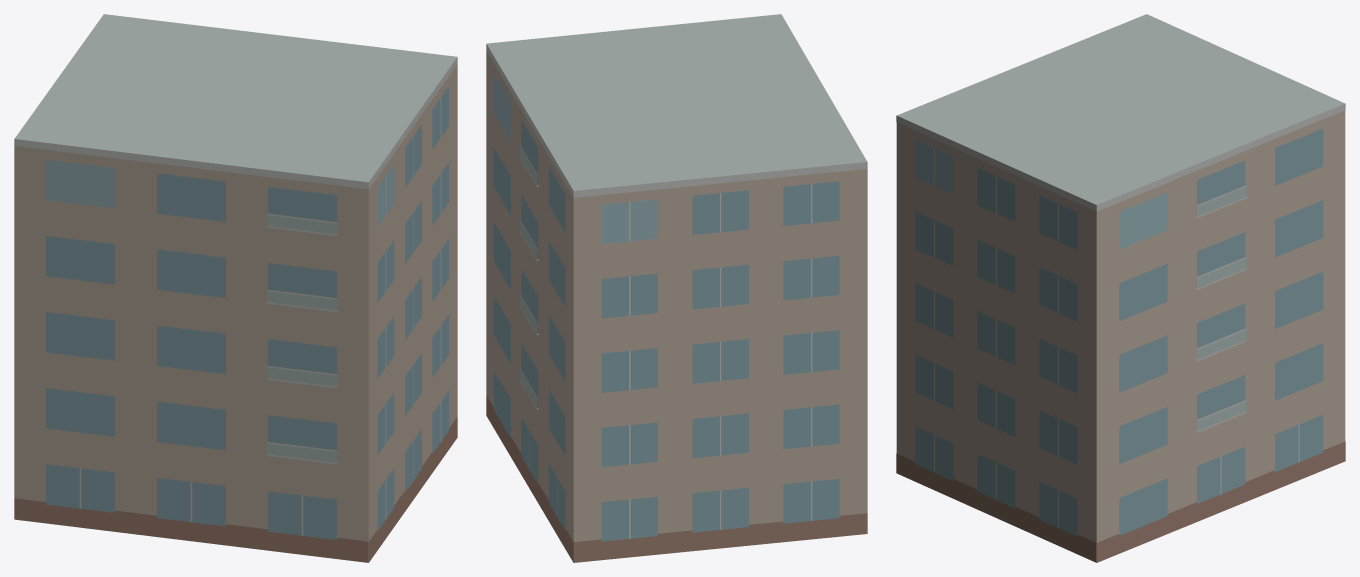
Rendered from survey-upis-32849461.glb.
3 renders of one model, left to right at view 1: azimuth 30°, elevation 25°; view 2: azimuth 150°, elevation 25°; view 3: azimuth 270°, elevation 25°, orthographic. The views are drawn at different scales.
Parts seen in each view (by area): view 1: survey-upis-32849461.tmp; view 2: survey-upis-32849461.tmp; view 3: survey-upis-32849461.tmp.
Boxes of the visible parts, x1=… form: survey-upis-32849461.tmp: x1=14, y1=14, x2=457, y2=562; survey-upis-32849461.tmp: x1=486, y1=14, x2=867, y2=562; survey-upis-32849461.tmp: x1=896, y1=14, x2=1345, y2=562.
Size of the model in its own units: 15.13 by 13.2 by 15.02.
